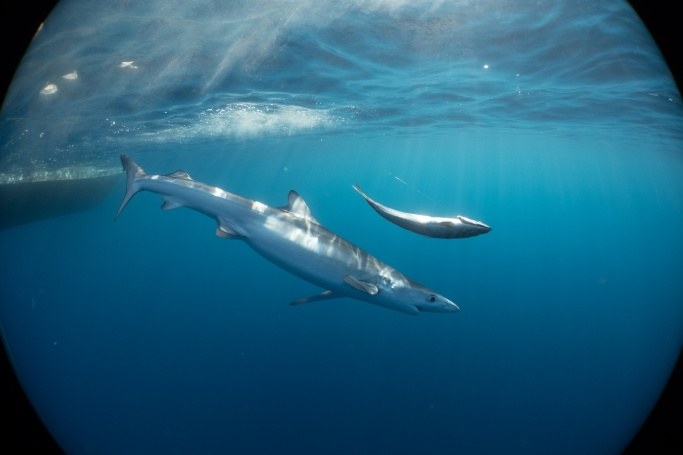Azul: (86, 134, 471, 348)
